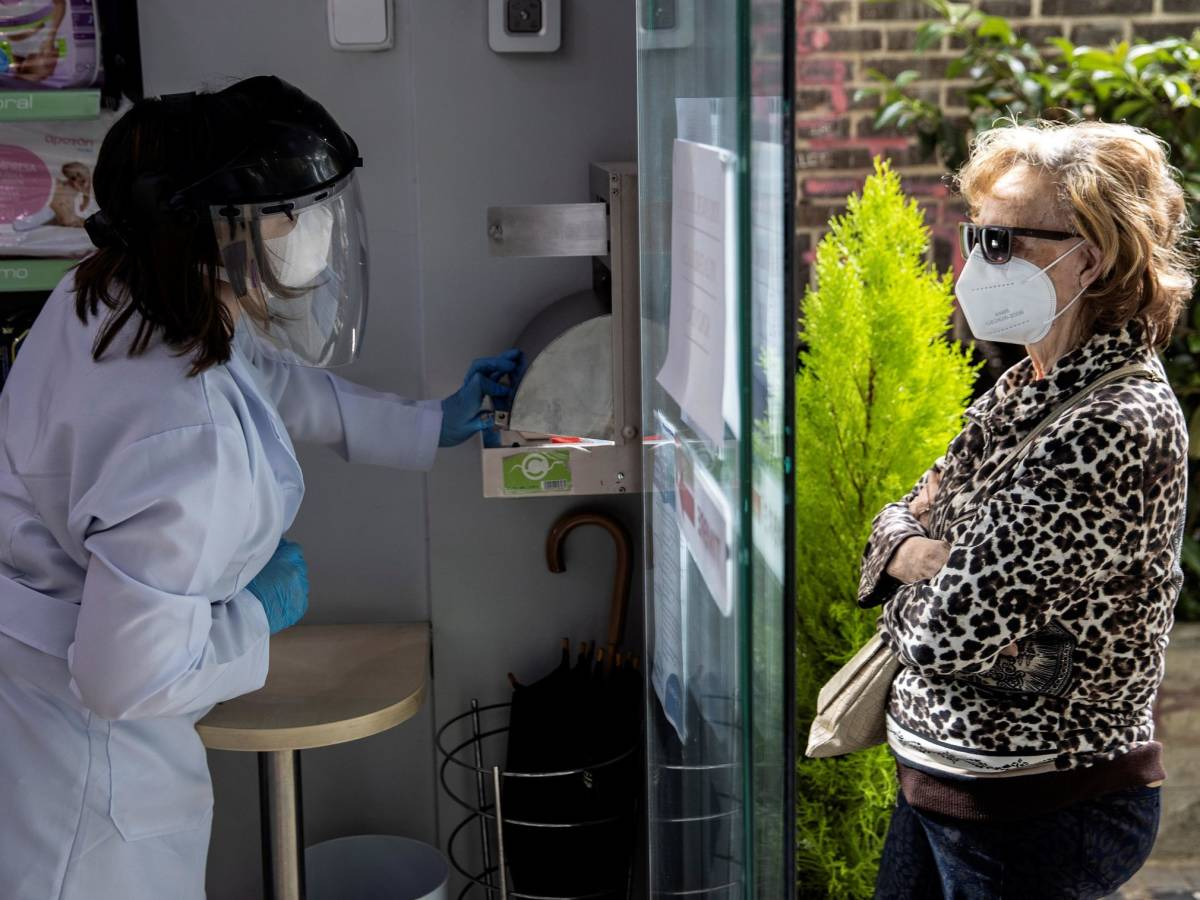with_mask: (935, 144, 1157, 382), (174, 122, 385, 364)
